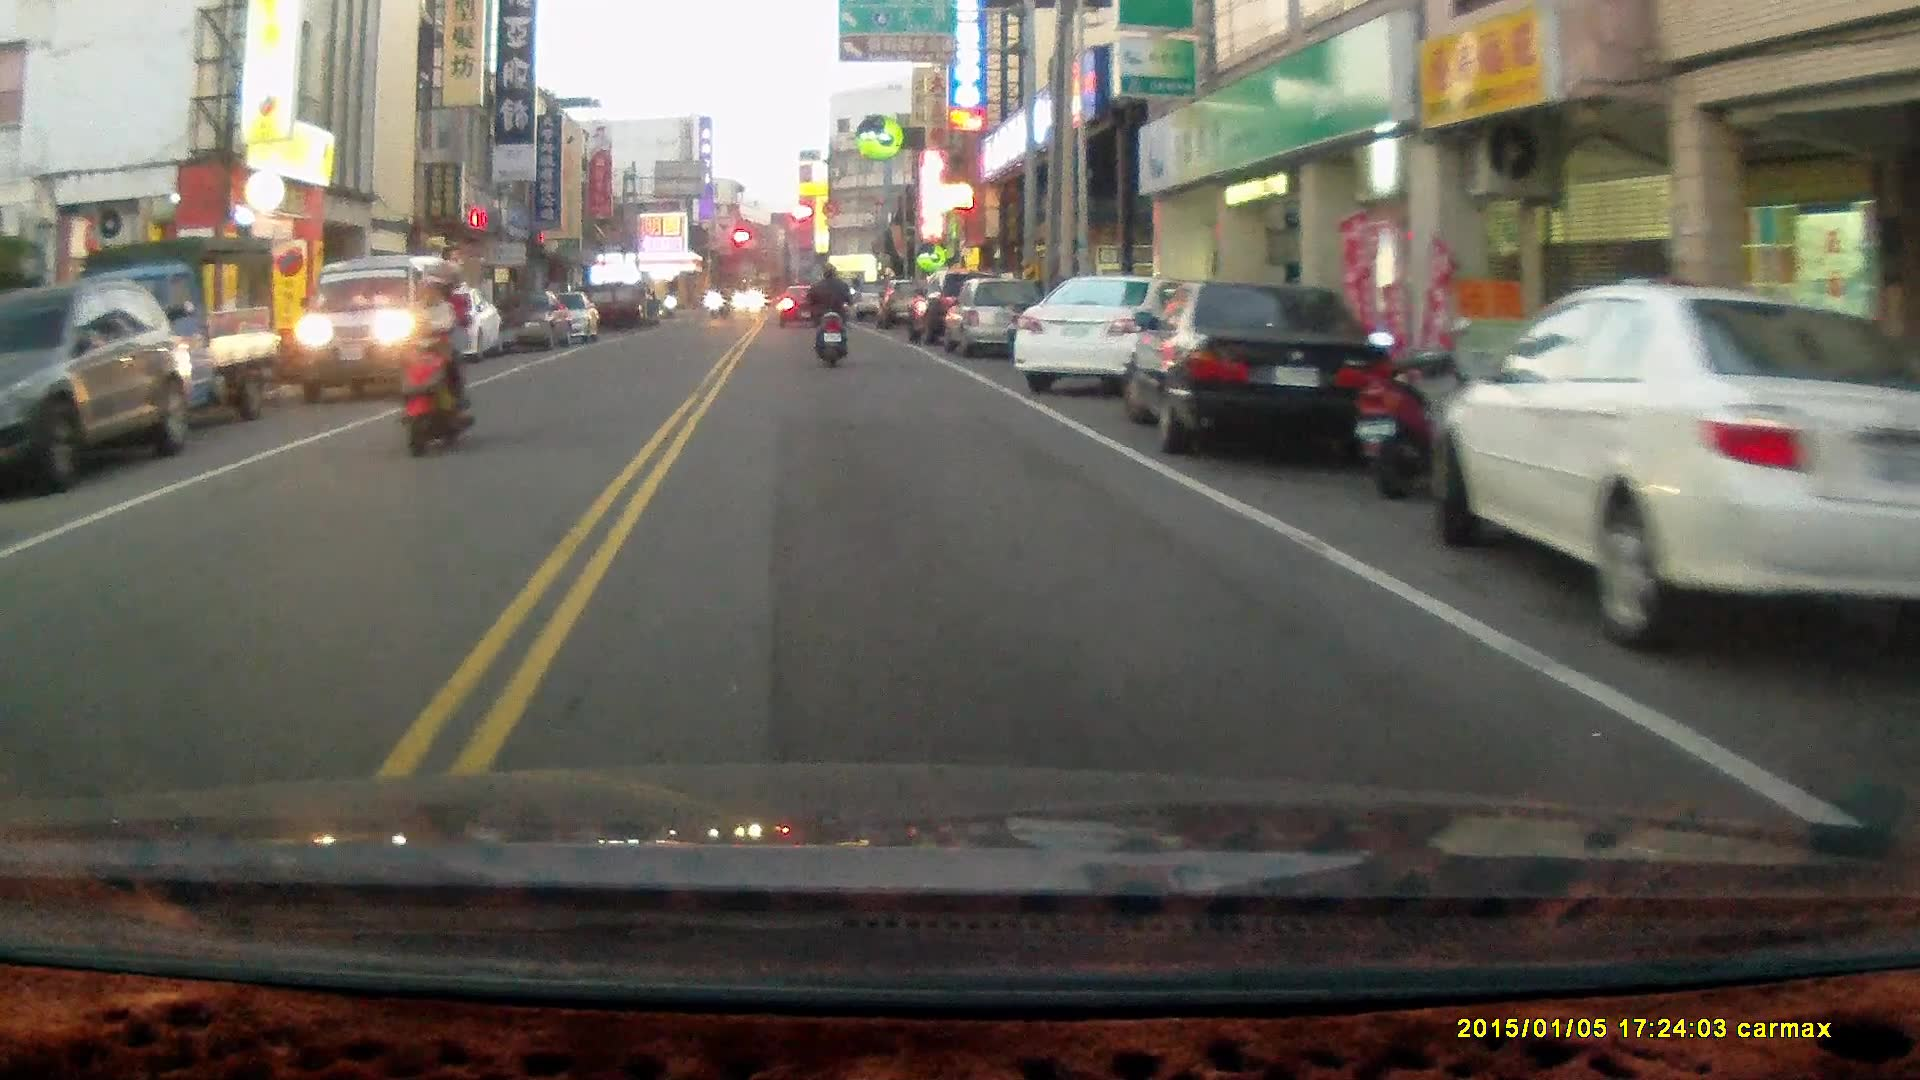rider: (394, 255, 474, 460), (805, 262, 852, 372)
vehicle: (1446, 284, 1919, 654), (1122, 282, 1389, 462), (55, 245, 287, 441), (1, 277, 199, 497), (1011, 275, 1200, 400), (299, 257, 452, 399), (940, 276, 1051, 361)
